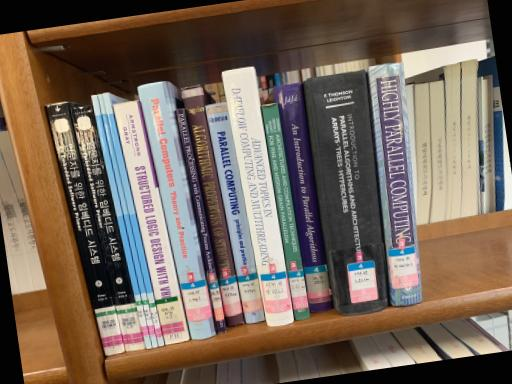book-spine: (138, 81, 217, 339), (307, 69, 389, 316), (45, 102, 124, 355), (222, 66, 294, 326), (114, 100, 190, 344), (71, 105, 145, 351), (103, 92, 164, 347), (92, 94, 152, 349), (98, 94, 158, 349), (182, 85, 245, 325), (276, 82, 334, 311), (205, 102, 265, 322), (370, 62, 422, 306), (176, 108, 226, 333), (262, 102, 311, 320)
